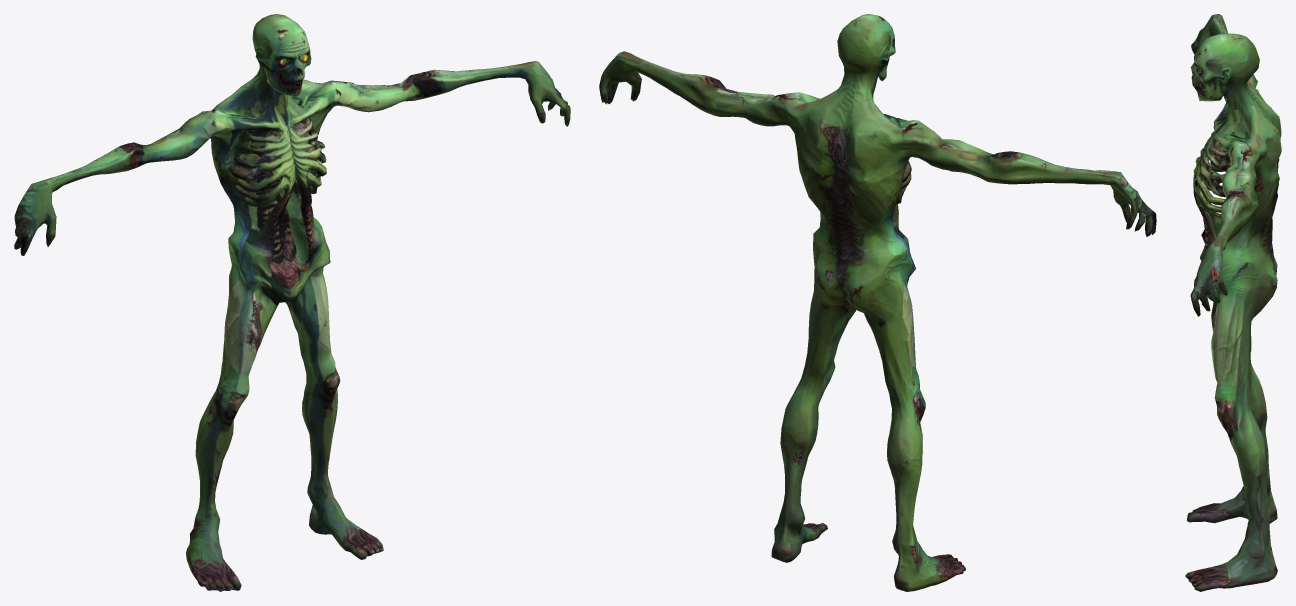
The model's file is Zombie.fbx.
3 views of the same model, side by side, from view 1: azimuth 30°, elevation 25°; view 2: azimuth 150°, elevation 25°; view 3: azimuth 270°, elevation 25° (orthographic). The views are drawn at different scales.
Visible parts, largest first — view 1: Mesh_0; view 2: Mesh_0; view 3: Mesh_0.
Part boxes in pixels (x1,y1,x2,y2): Mesh_0: (14,14,570,591); Mesh_0: (599,14,1156,591); Mesh_0: (1185,14,1281,591).
Bounding box in the file's own units: 201 × 190 × 32.18.
1 material, 1 textured.
